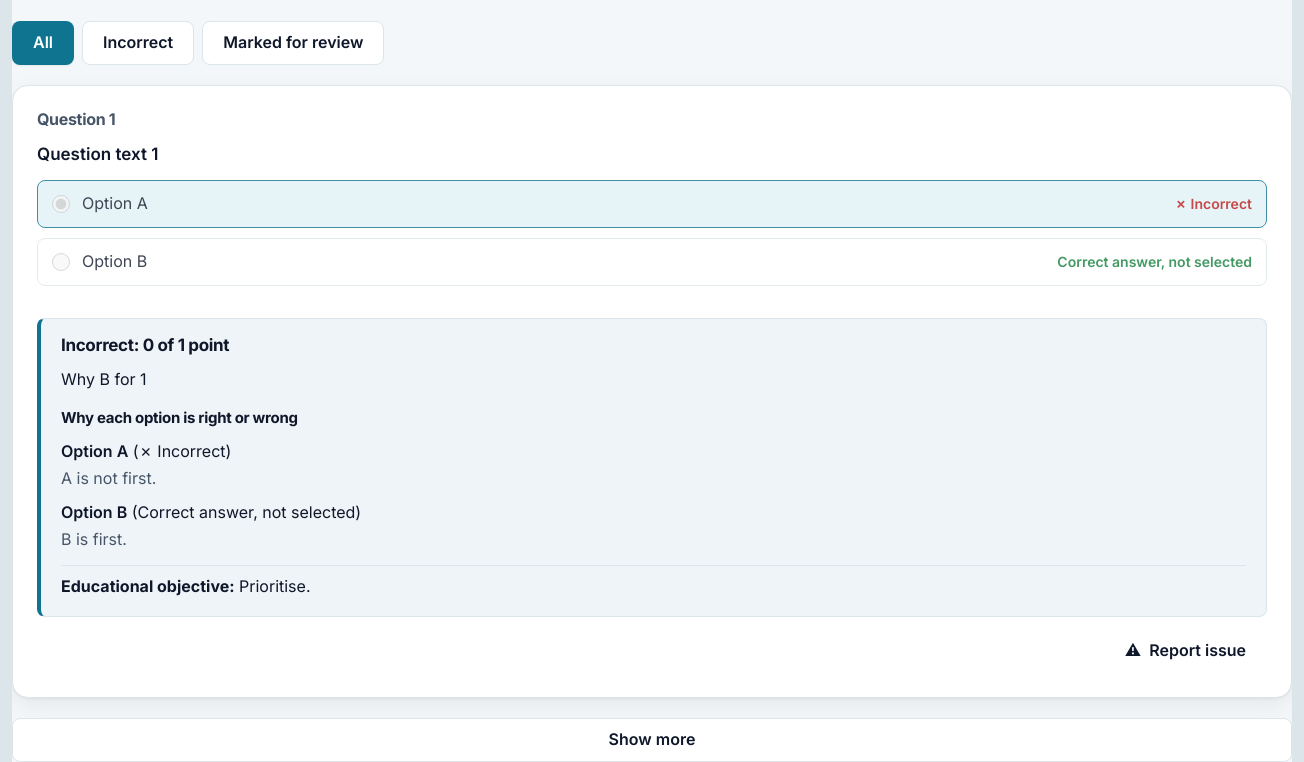
ReviewPage › loads the next page with the cursor
This screenshot has width=1304, height=762.
Step 1. Click the button "Show more" → (652, 740), box [12,718,1292,761]
(page scrolled)
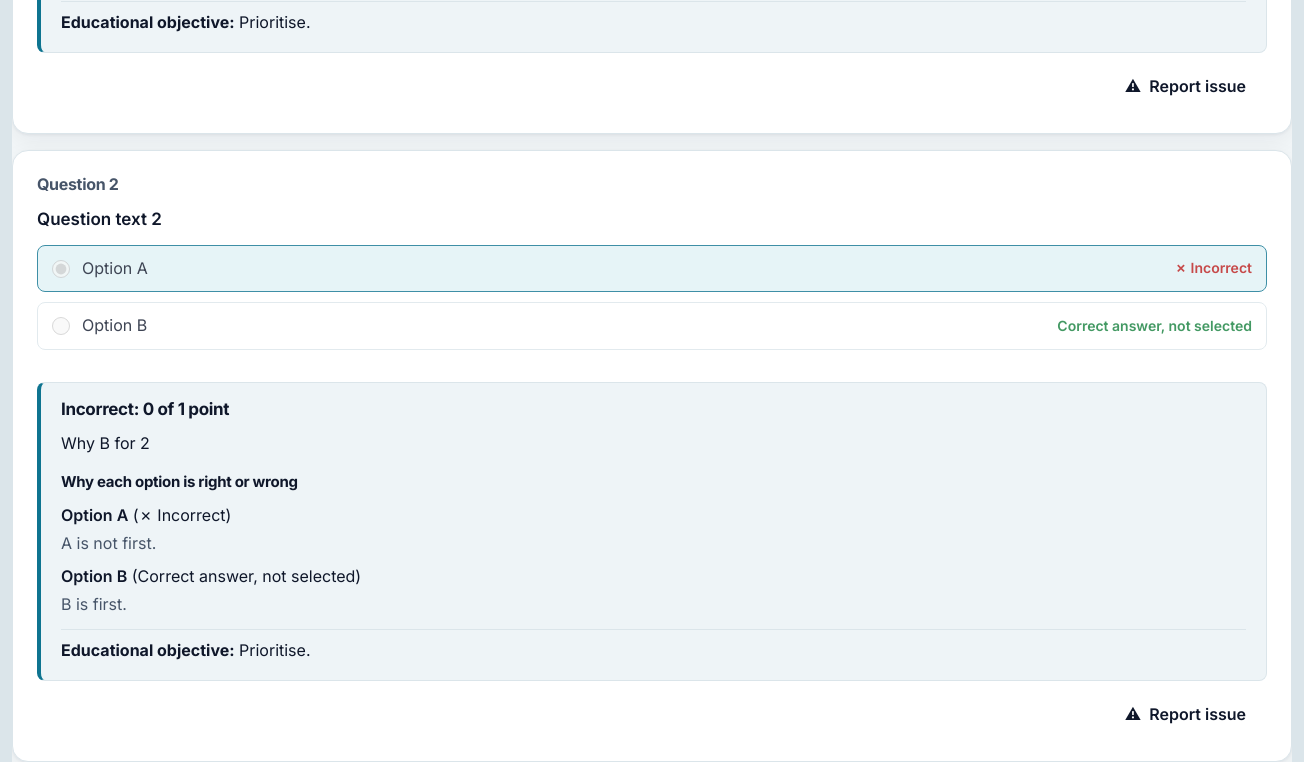
Result: the element "Question 2" is shown
Result: the button "Show more" is gone
